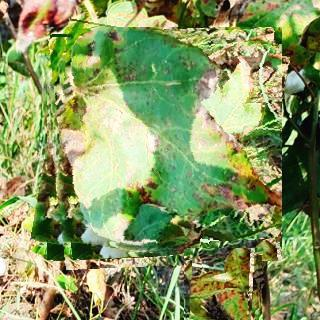blight: (39, 27, 282, 270), (184, 248, 263, 320)
